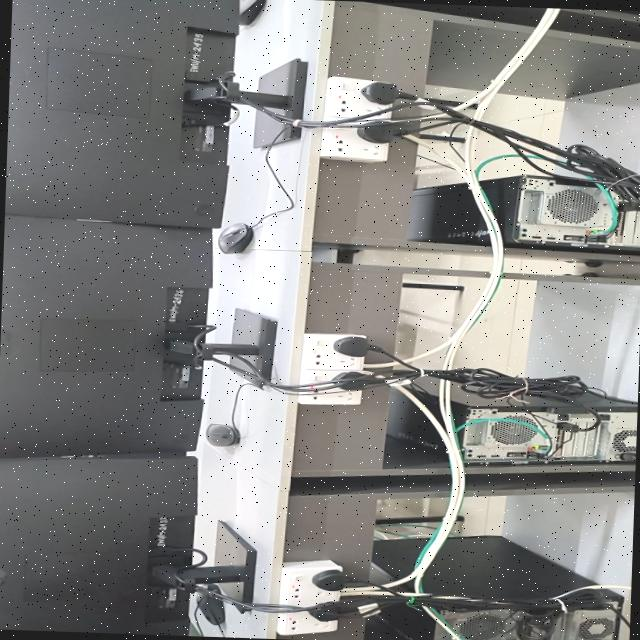Cpu: (450, 385, 637, 464), (478, 175, 640, 255), (423, 535, 590, 599), (439, 609, 620, 640), (407, 183, 489, 246), (386, 392, 442, 456), (375, 605, 454, 640), (369, 538, 426, 582)
Monitor: (4, 0, 237, 227), (0, 214, 211, 458), (0, 457, 195, 636)
Mouse: (216, 223, 252, 254), (195, 595, 223, 625), (204, 423, 237, 446), (239, 0, 263, 25), (208, 586, 218, 591)
